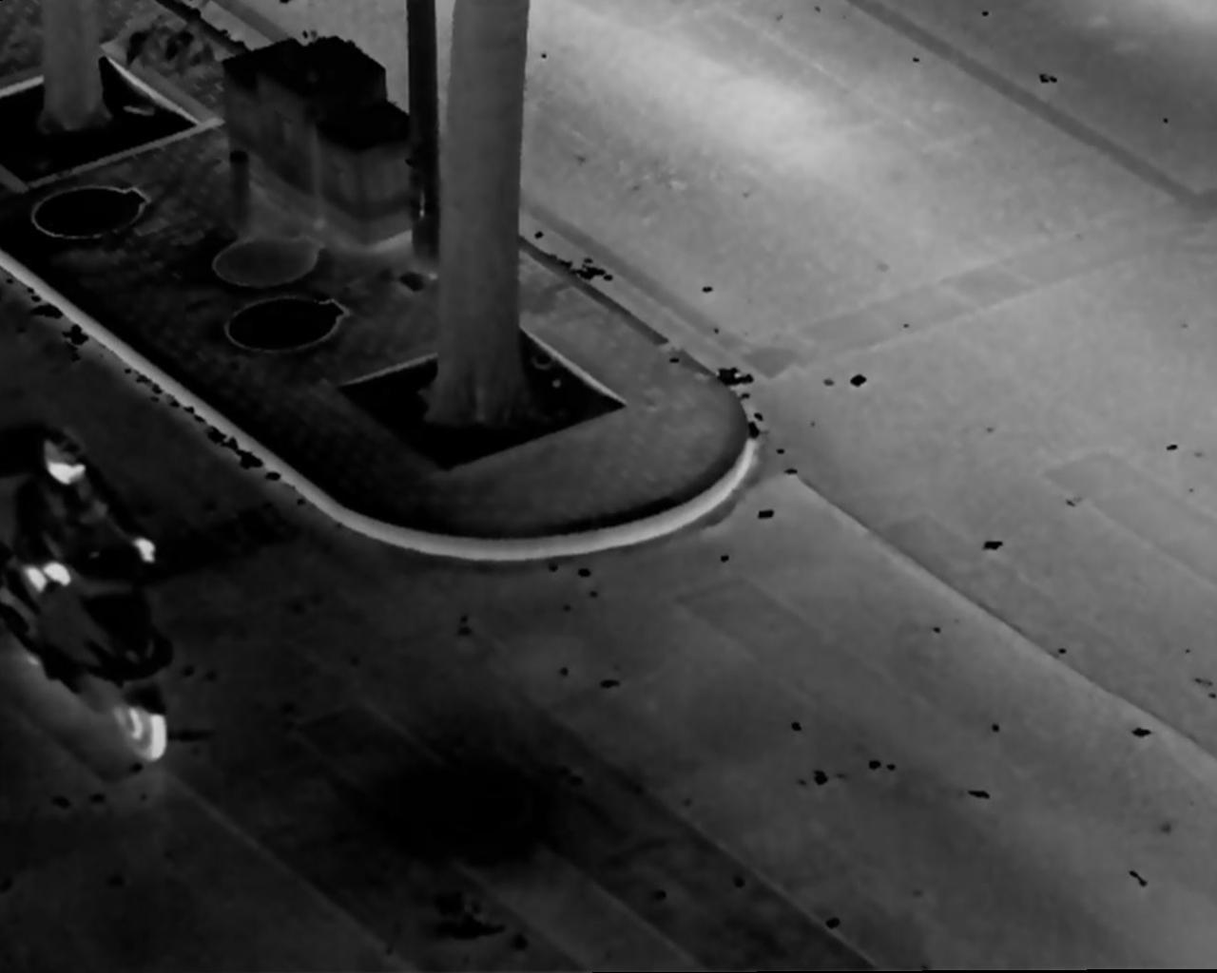person: (23, 427, 155, 733)
